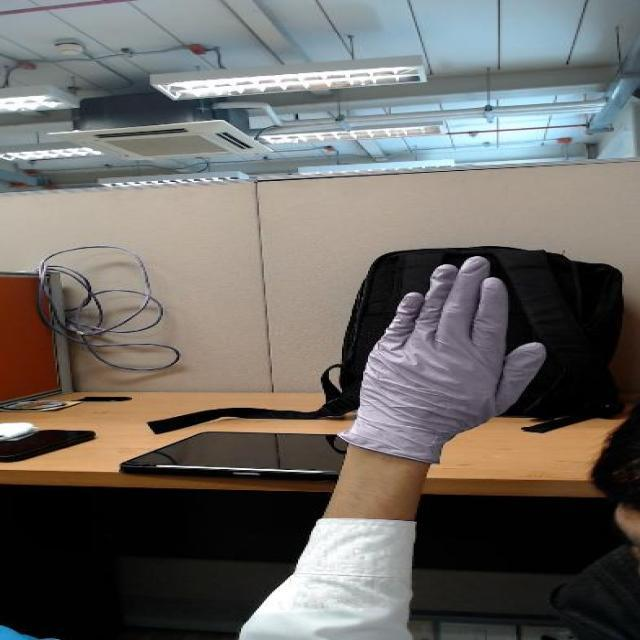gloved_hand: (275, 245, 591, 432)
